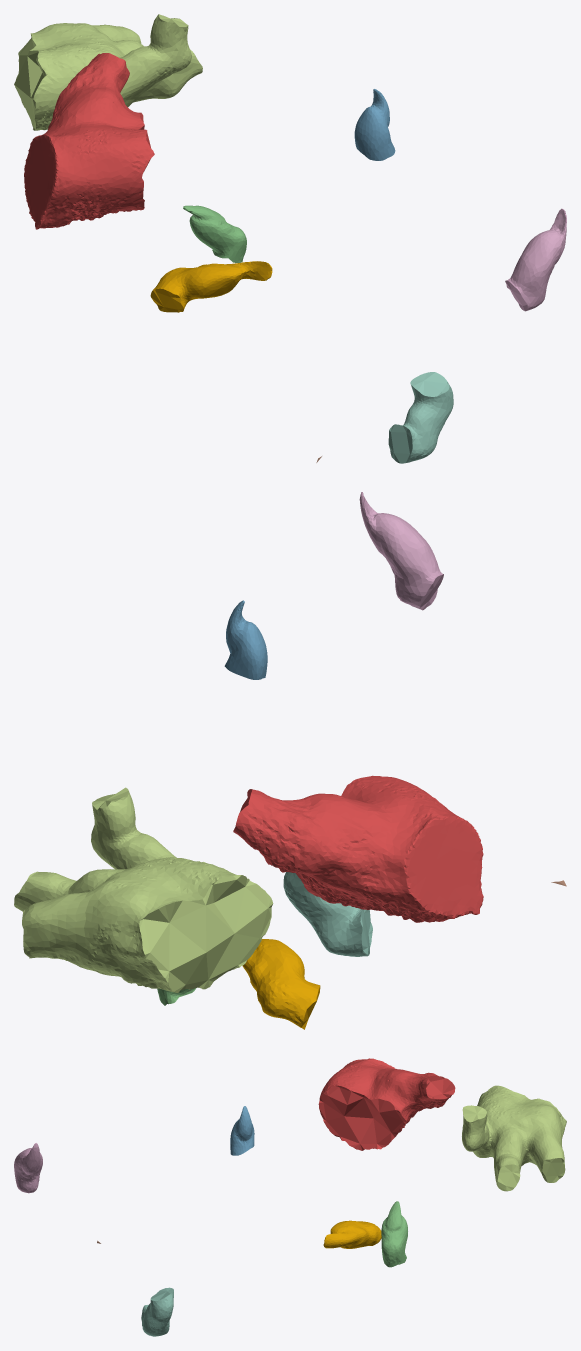
The model's file is mode_7_8pcs_transformed.glb.
3 renders of one model, top to bottom at view 1: azimuth 30°, elevation 25°; view 2: azimuth 150°, elevation 25°; view 3: azimuth 270°, elevation 25°, orthographic. The views are drawn at different scales.
Visible parts, largest first — view 1: piece_1.obj, piece_5.obj, piece_4.obj, piece_0.obj, piece_6.obj, piece_3.obj, piece_2.obj; view 2: piece_5.obj, piece_1.obj, piece_6.obj, piece_0.obj, piece_4.obj, piece_2.obj; view 3: piece_1.obj, piece_5.obj, piece_3.obj, piece_0.obj, piece_4.obj, piece_6.obj, piece_2.obj.
Boxes of the visible parts, box(x1,y1,x2,y2) form: piece_1.obj: box(24, 53, 154, 229); piece_5.obj: box(14, 14, 202, 130); piece_4.obj: box(388, 372, 453, 463); piece_0.obj: box(150, 261, 272, 312); piece_6.obj: box(505, 208, 566, 311); piece_3.obj: box(183, 205, 246, 262); piece_2.obj: box(354, 89, 395, 160); piece_5.obj: box(14, 787, 273, 992); piece_1.obj: box(233, 775, 483, 922); piece_6.obj: box(359, 492, 443, 610); piece_0.obj: box(242, 939, 320, 1029); piece_4.obj: box(283, 872, 372, 956); piece_2.obj: box(224, 600, 267, 679); piece_1.obj: box(318, 1058, 455, 1150); piece_5.obj: box(462, 1085, 566, 1191); piece_3.obj: box(381, 1201, 407, 1267); piece_0.obj: box(323, 1220, 381, 1248); piece_4.obj: box(141, 1287, 173, 1336); piece_6.obj: box(14, 1143, 42, 1193); piece_2.obj: box(230, 1106, 254, 1155).
Size of the model in its own units: 1 by 0.9811 by 2.07.
